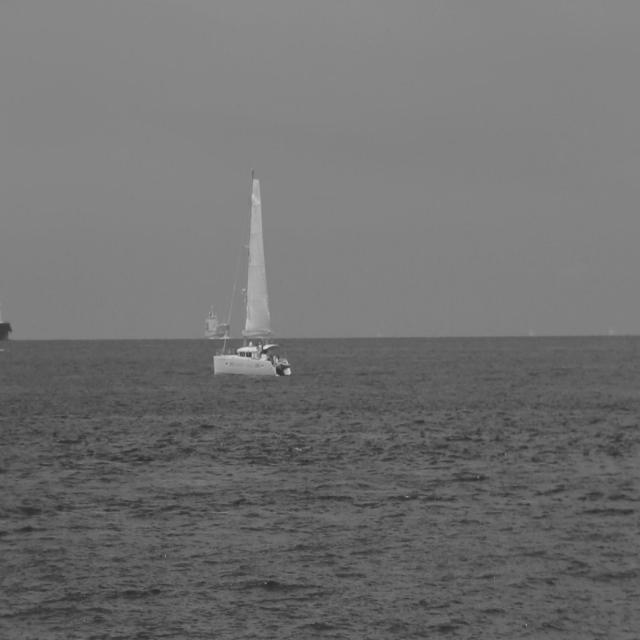ship: (213, 166, 293, 378), (200, 306, 228, 341), (0, 299, 10, 355)
